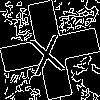X: (25, 25, 67, 76)
